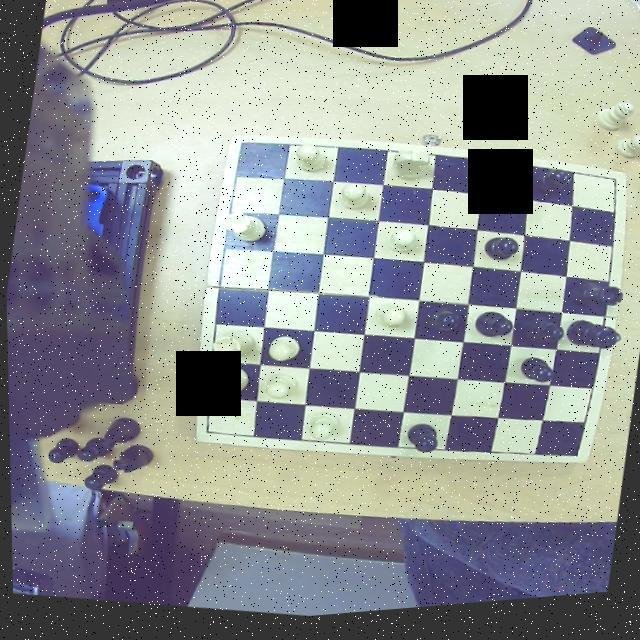chess-table-corners: (230, 138, 258, 164), (194, 420, 218, 446), (558, 454, 588, 474), (602, 182, 626, 205)
